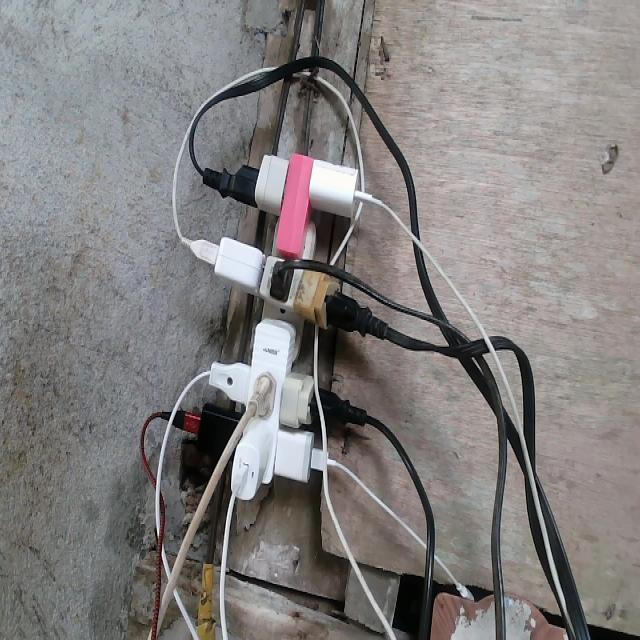-: (192, 150, 367, 502)
